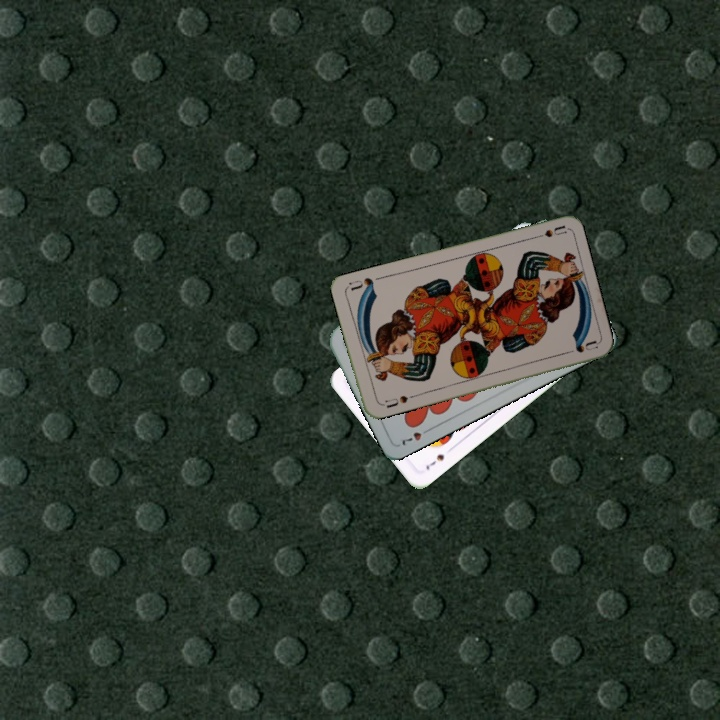H7: (398, 424, 434, 448)
S7: (422, 450, 447, 472)
SU: (527, 221, 568, 242), (376, 391, 410, 411)
